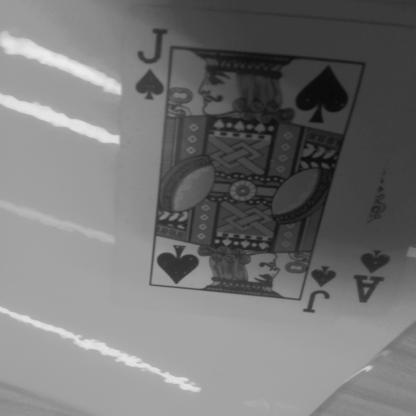AS: (350, 232, 400, 316)
JS: (124, 30, 183, 113), (296, 256, 336, 314)
